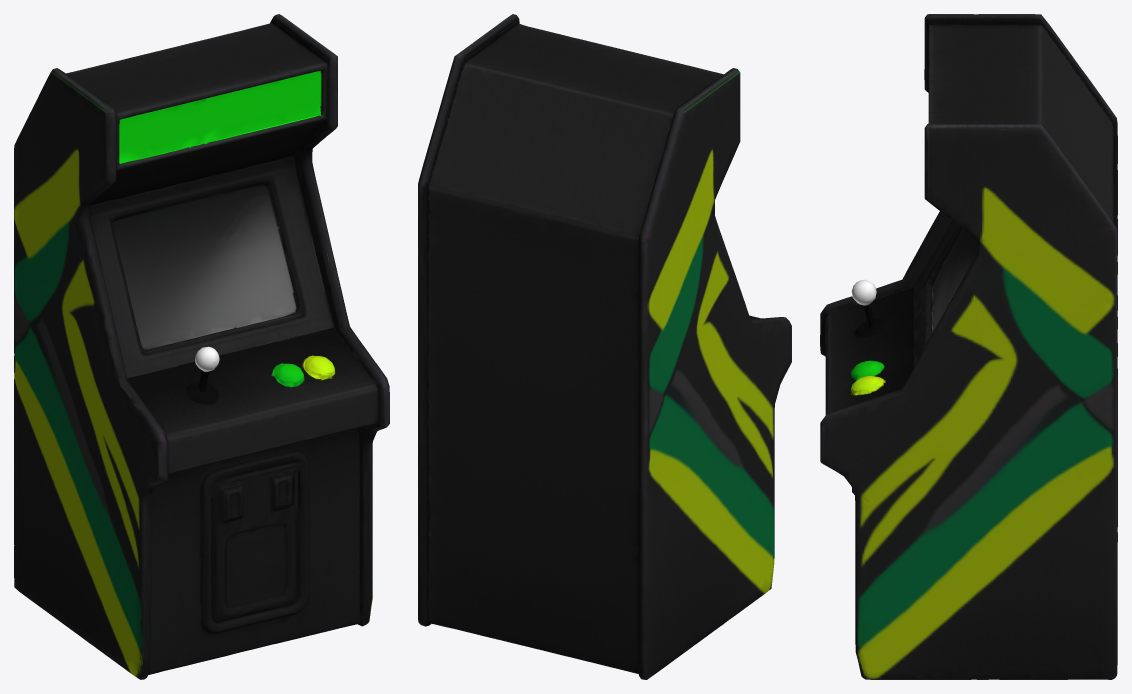
The model's file is 04_arcade_04_upright_neon_green.glb.
3 views of the same model, side by side, from view 1: azimuth 30°, elevation 25°; view 2: azimuth 150°, elevation 25°; view 3: azimuth 270°, elevation 25° (orthographic).
Visible parts, largest first — view 1: world; view 2: world; view 3: world.
Part boxes in pixels (x1,y1,x2,y2): world: (14,14,389,679); world: (418,14,791,679); world: (820,14,1117,679).
Bounding box in the file's own units: 0.4447 × 1 × 0.4888.
Materials: 1 (1 with a texture image).
